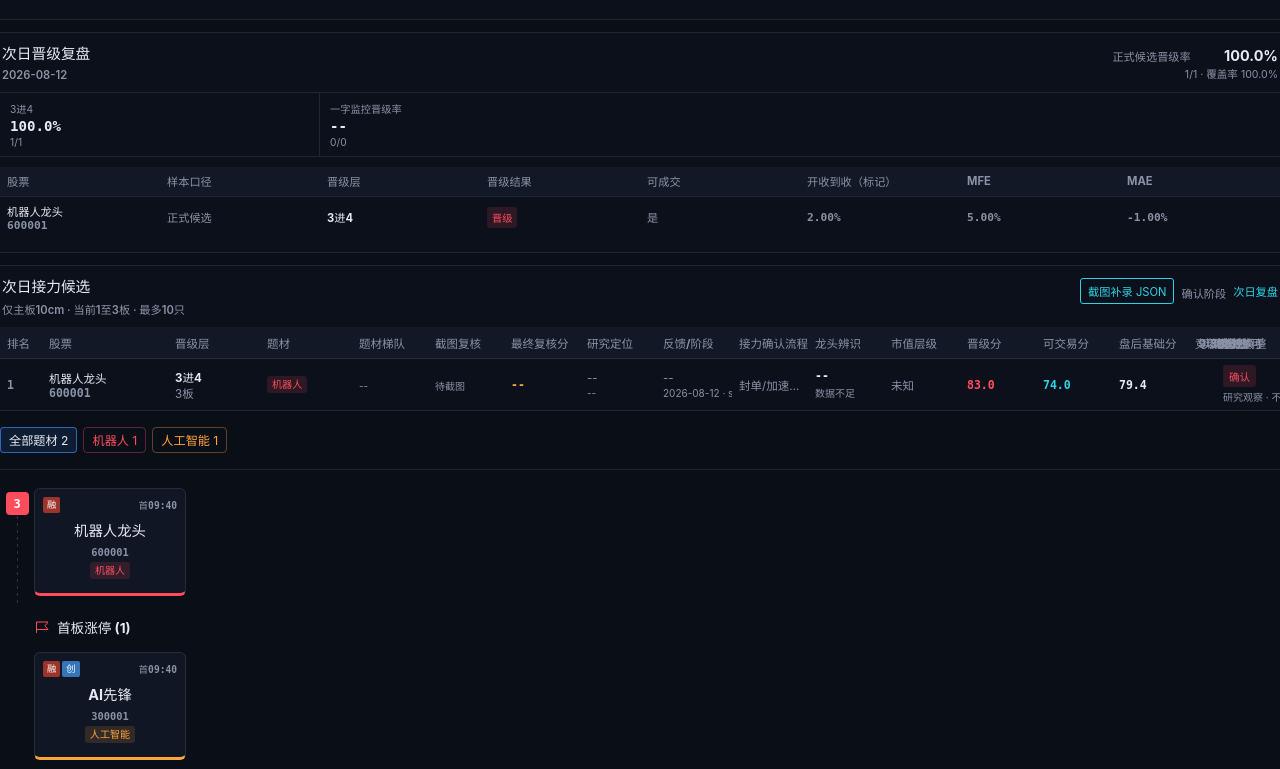
Test case: LadderView › renders v2 lanes, live candidate state, and dual-score evidence
(page scrolled)
Expected: the text "确认" is shown, [1223, 365, 1256, 387]
Expected: the column heading "实时分" is shown, [1195, 327, 1198, 359]
Click the text "机器人龙头" in the row of "待截图" at coordinates (78, 379), box [49, 372, 107, 386]
(page scrolled)
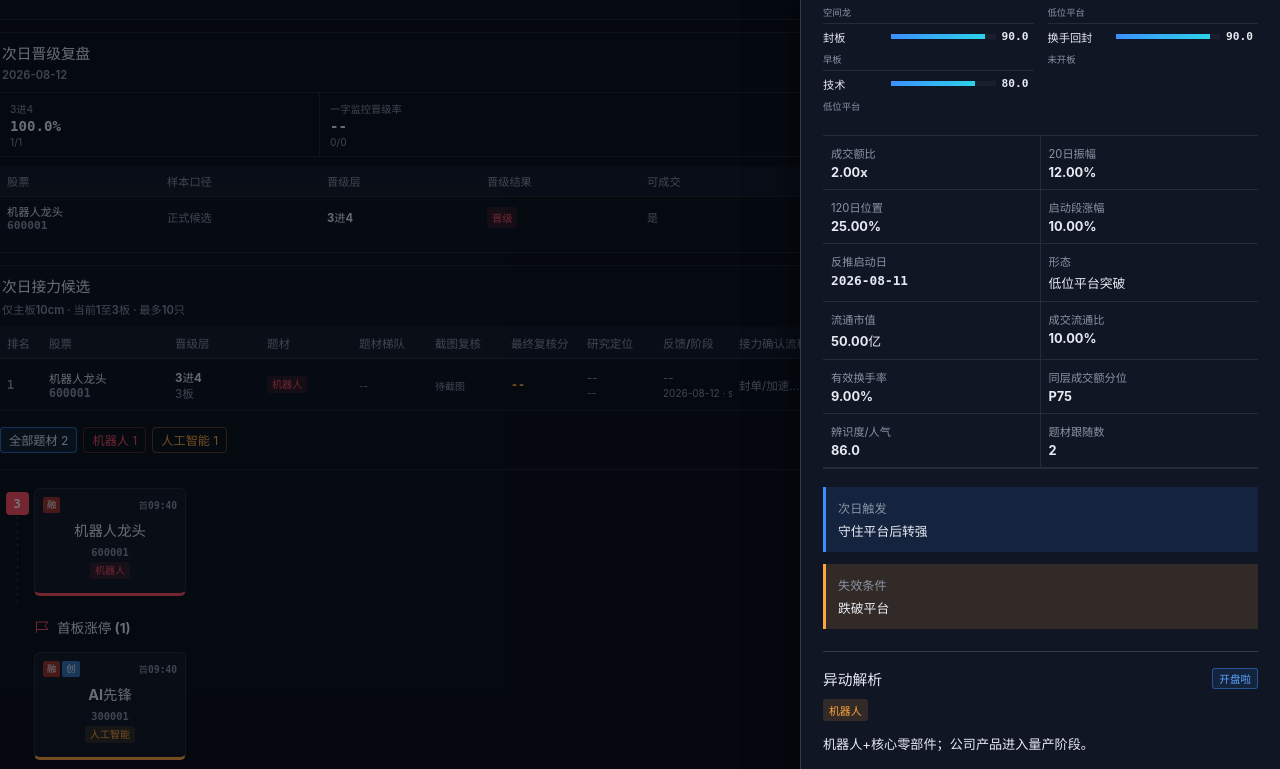
Result: the text "有效换手率" is shown at [831, 371, 887, 385]
